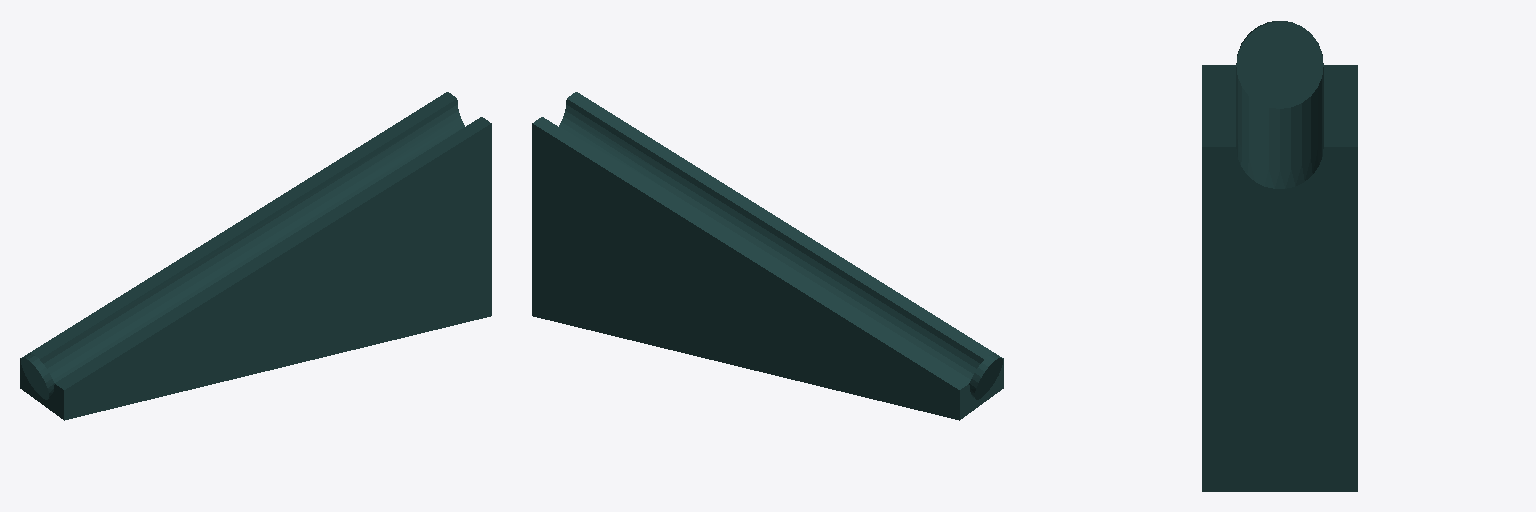
The robot description file, URDF, robot "basic_launcher":
<?xml version="1.0" ?>
<!-- =================================================================================== -->
<!-- |    This document was autogenerated by xacro from src/launcher_basic_description/urdf/basic_launcher.xacro | -->
<!-- |    EDITING THIS FILE BY HAND IS NOT RECOMMENDED                                 | -->
<!-- =================================================================================== -->
<robot name="basic_launcher">
  <material name="grey">
    <color rgba="0.82421875 0.82421875 0.82421875 1.0"/>
  </material>
  <material name="darkgrey">
    <color rgba="0.1843137254901961 0.30980392156862746 0.30980392156862746 1.000"/>
  </material>
  <material name="silver">
    <color rgba="0.700 0.700 0.700 1.000"/>
  </material>
  <material name="white">
    <color rgba="1 1 1 1"/>
  </material>
  <material name="orange">
    <color rgba="1 0.3 0.1 1"/>
  </material>
  <material name="blue">
    <color rgba="0.2 0.2 1 1"/>
  </material>
  <material name="red">
    <color rgba="0.8 0 0 1"/>
  </material>
  <material name="green">
    <color rgba="0.0 1 0.0 1"/>
  </material>
  <material name="black">
    <color rgba="0 0 0 1"/>
  </material>
  <gazebo>
    <static>true</static>
  </gazebo>
  <gazebo reference="base_link">
    <mu1>0.2</mu1>
    <mu2>0.2</mu2>
    <selfCollide>false</selfCollide>
    <gravity>true</gravity>
  </gazebo>
  <gazebo reference="launcher">
    <material>Gazebo/DarkGrey</material>
    <mu1>0.2</mu1>
    <mu2>0.2</mu2>
    <selfCollide>false</selfCollide>
    <gravity>true</gravity>
  </gazebo>
  <link name="base_link"/>
  <joint name="dummy_joint" type="fixed">
    <origin rpy="0 0 0" xyz="0 0 0"/>
    <parent link="base_link"/>
    <child link="launcher"/>
  </joint>
  <link name="launcher">
    <inertial>
      <origin rpy="0 0 0" xyz="0.7438484910849467 0.0 0.7799578684960197"/>
      <mass value="56624.52398127676"/>
      <inertia ixx="21939.19016" ixy="0.0" ixz="-21355.751554" iyy="136610.920255" iyz="-0.0" izz="124823.861351"/>
    </inertial>
    <visual>
      <origin rpy="0 0 0" xyz="0 0 0"/>
      <geometry>
        <mesh filename="package://launcher_basic_description/meshes/base_link.stl" scale="0.001 0.001 0.001"/>
      </geometry>
      <material name="darkgrey"/>
    </visual>
    <collision>
      <origin rpy="0 0 0" xyz="0 0 0"/>
      <geometry>
        <mesh filename="package://launcher_basic_description/meshes/base_link.stl" scale="0.001 0.001 0.001"/>
      </geometry>
    </collision>
  </link>
</robot>

--- Facts derived from the render (not from the file) ---
3 views of the same robot in one strip: view 1: azimuth 30°, elevation 25°; view 2: azimuth 150°, elevation 25°; view 3: azimuth 270°, elevation 25° (orthographic).
Model basic_launcher with 2 links and 1 joints (1 fixed), rooted at base_link, posed all joints at 0.
Visible links, largest first — view 1: launcher; view 2: launcher; view 3: launcher.
Link boxes in pixels (x1,y1,x2,y2): launcher: (20,92,491,420); launcher: (532,92,1003,420); launcher: (1202,21,1357,491).
Bounding box of the posed robot: 5.83 × 1 × 2.43 m (x, y, z).
Meshes: 1 distinct files referenced, 1 mesh visuals loaded (1 binary STL).